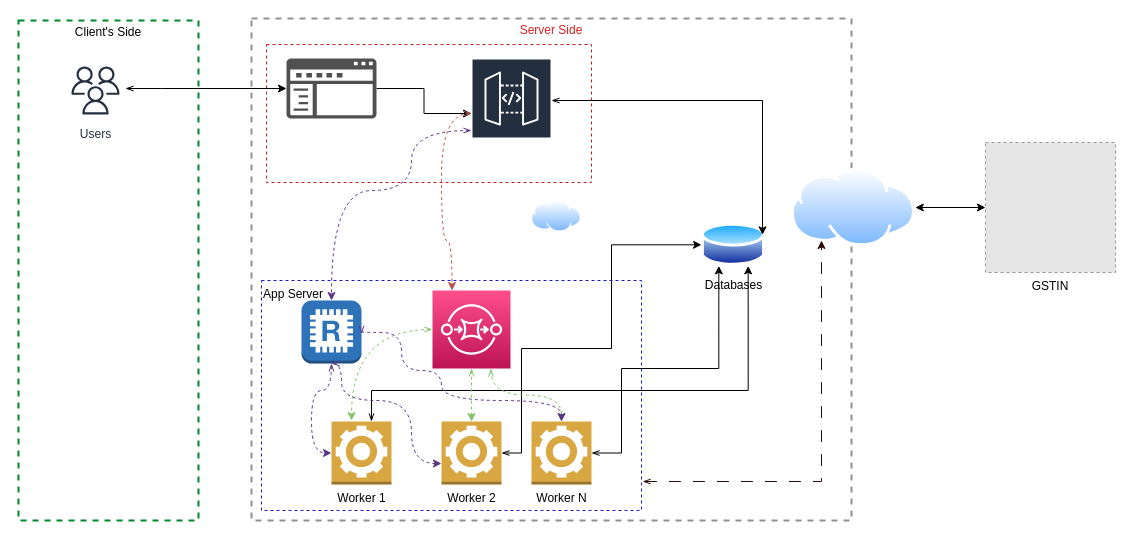
Some shapes in this 1133 by 538 pixel diagram are drawn without their labels. Grey dashed boxes stand in for pictures. Each missing label, with the box of its shape:
Internet: (791, 168, 915, 246)
Portal Api: (470, 58, 552, 168)
RabbitMQ Cluster: (432, 290, 510, 368)
Vue Js Portal: (286, 58, 376, 118)
Web,Api Server: (266, 44, 592, 182)
